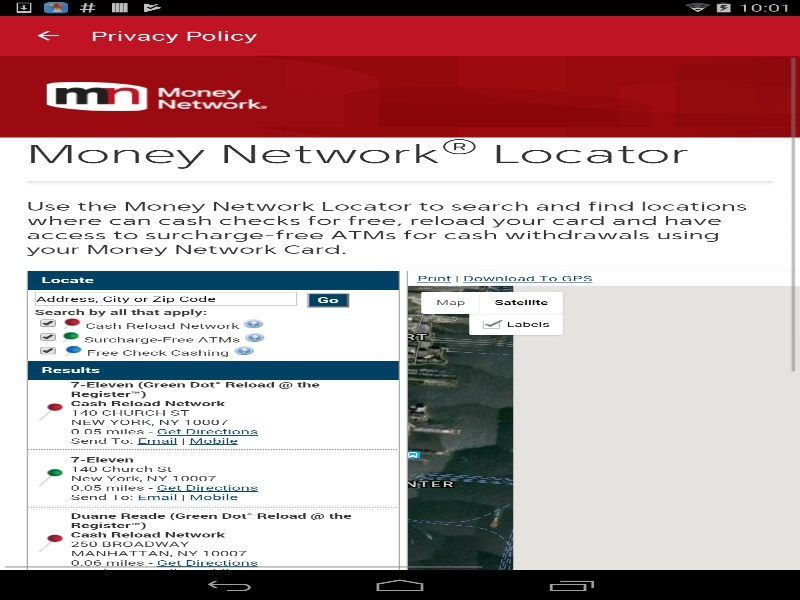Button: (10, 15, 85, 55), (306, 293, 349, 307)
Input: (34, 291, 297, 305)
